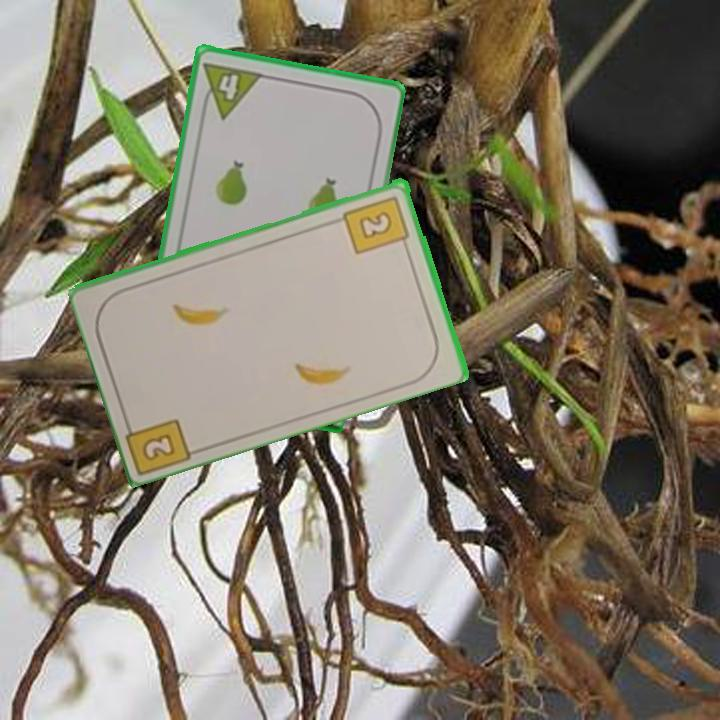2b: (120, 412, 196, 475), (340, 192, 412, 257)
4p: (196, 57, 265, 122)
